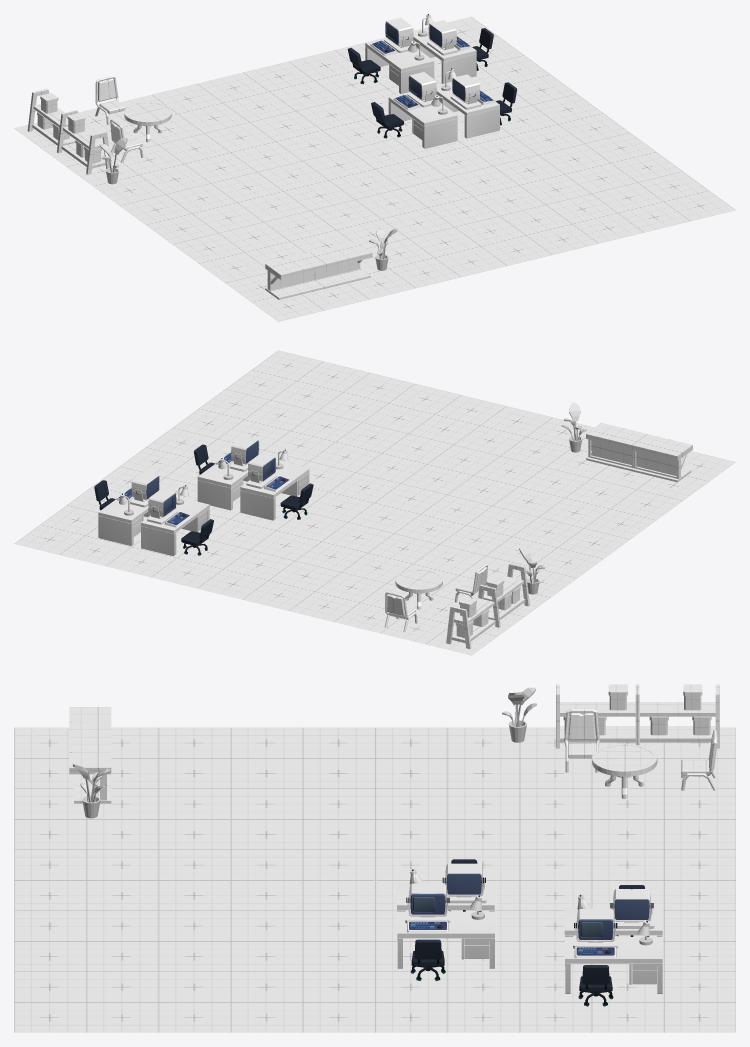
The model's file is office.glb.
The picture shows the model from 3 angles, top to bottom: view 1: azimuth 30°, elevation 25°; view 2: azimuth 150°, elevation 25°; view 3: azimuth 270°, elevation 25°; orthographic projection. The views are drawn at different scales.
Parts seen in each view (by area): view 1: static-floor, static-counter, static-cabinet, static-work-desk.003, static-work-desk.001, static-work-desk.002, static-work-desk, static-cafe-table, cublicle.006, cublicle.001, cublicle, cublicle.004 (+6 smaller); view 2: static-floor, static-counter, static-cabinet, static-work-desk.003, static-work-desk.001, static-work-desk, static-work-desk.002, static-cafe-table, cublicle.001, cublicle.006, cublicle, cublicle.004 (+5 smaller); view 3: static-floor, static-cabinet, static-counter, static-work-desk.002, static-work-desk, cublicle, cublicle.004, static-cafe-table, static-chair.001, cublicle.006, cublicle.001, static-work-chair.002 (+6 smaller).
Boxes of the visible parts, x1,y1,x2,y2 form: static-floor: (14,16,735,321); static-counter: (265,241,372,299); static-cabinet: (27,88,109,174); static-work-desk.003: (388,92,457,148); static-work-desk.001: (365,38,434,93); static-work-desk.002: (434,81,499,138); static-work-desk: (410,27,476,83); static-cafe-table: (124,102,171,142); cublicle.006: (393,72,436,110); cublicle.001: (370,17,413,56); cublicle: (427,20,471,55); cublicle.004: (450,74,495,109); static-floor: (14,350,735,655); static-counter: (586,422,692,482); static-cabinet: (446,563,529,648); static-work-desk.003: (240,461,309,520); static-work-desk.001: (141,496,209,556); static-work-desk: (98,499,150,545); static-work-desk.002: (197,463,250,510); static-cafe-table: (395,569,442,609); cublicle.001: (147,489,191,527); cublicle.006: (246,453,291,491); cublicle: (116,472,159,507); cublicle.004: (216,436,259,471); static-floor: (14,727,735,1032); static-cabinet: (556,684,719,748); static-counter: (69,707,111,803); static-work-desk.002: (397,911,494,968); static-work-desk: (565,937,662,993); cublicle: (573,909,618,958); cublicle.004: (405,883,450,932); static-cafe-table: (592,744,657,798); static-chair.001: (564,709,599,772); cublicle.006: (442,863,486,903); cublicle.001: (610,889,654,928); static-work-chair.002: (410,939,445,980).
Size of what is drawn, in the model's own units: 10 by 1 by 10.
2 materials, 2 textured.
